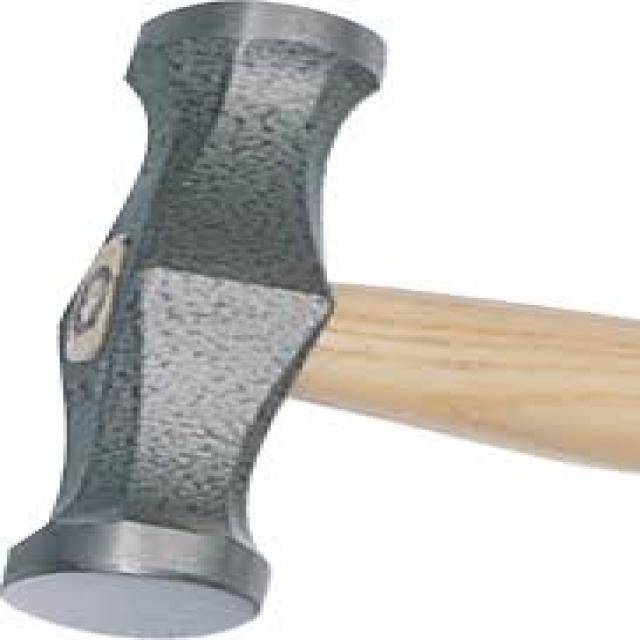Palu: (4, 0, 636, 640)
